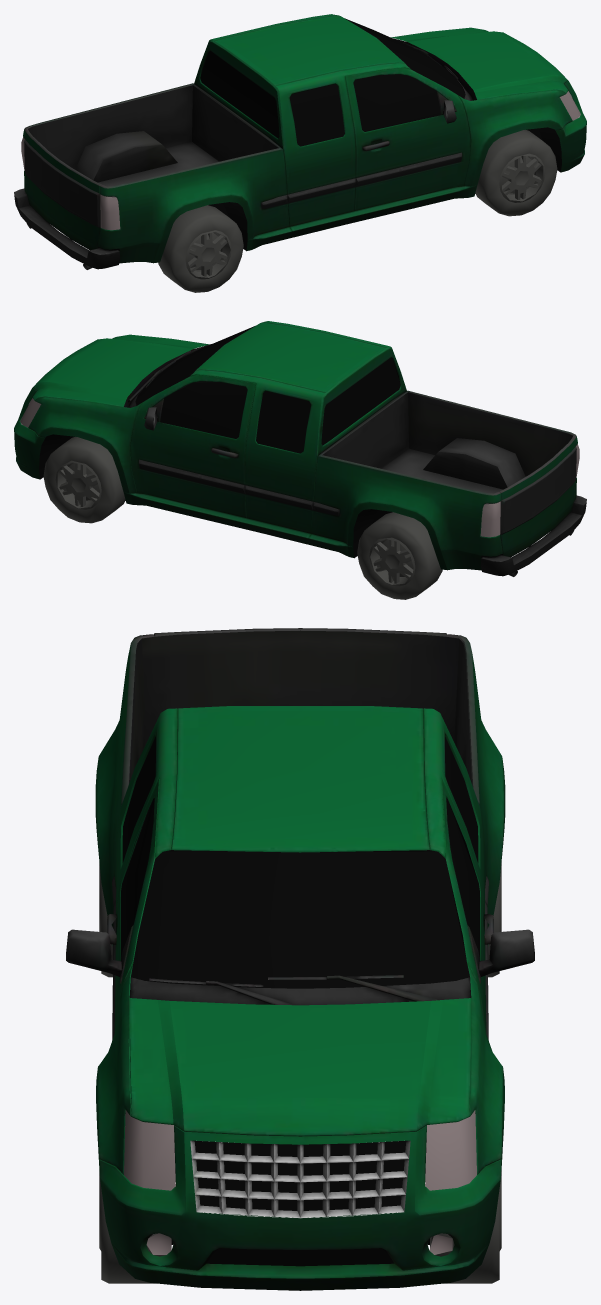
Rendered from pc-pickup.lod0.glb.
The picture shows the model from 3 angles, top to bottom: view 1: azimuth 30°, elevation 25°; view 2: azimuth 150°, elevation 25°; view 3: azimuth 270°, elevation 25°; orthographic projection. The views are drawn at different scales.
Visible parts, largest first — view 1: Pickup Body_Body_0, Wheel_E_Wheel_0; view 2: Pickup Body_Body_0, Wheel_E_Wheel_0; view 3: Pickup Body_Body_0, Wheel_E_Wheel_0.
Boxes of the visible parts, bbox=[...] form: Pickup Body_Body_0: bbox=[14, 14, 586, 269]; Wheel_E_Wheel_0: bbox=[21, 18, 580, 292]; Pickup Body_Body_0: bbox=[14, 321, 586, 576]; Wheel_E_Wheel_0: bbox=[20, 326, 579, 599]; Pickup Body_Body_0: bbox=[66, 628, 534, 1290]; Wheel_E_Wheel_0: bbox=[99, 737, 501, 1283].
Bounding box in the file's own units: 5.18 × 1.69 × 2.07.
2 materials, 1 textured.
